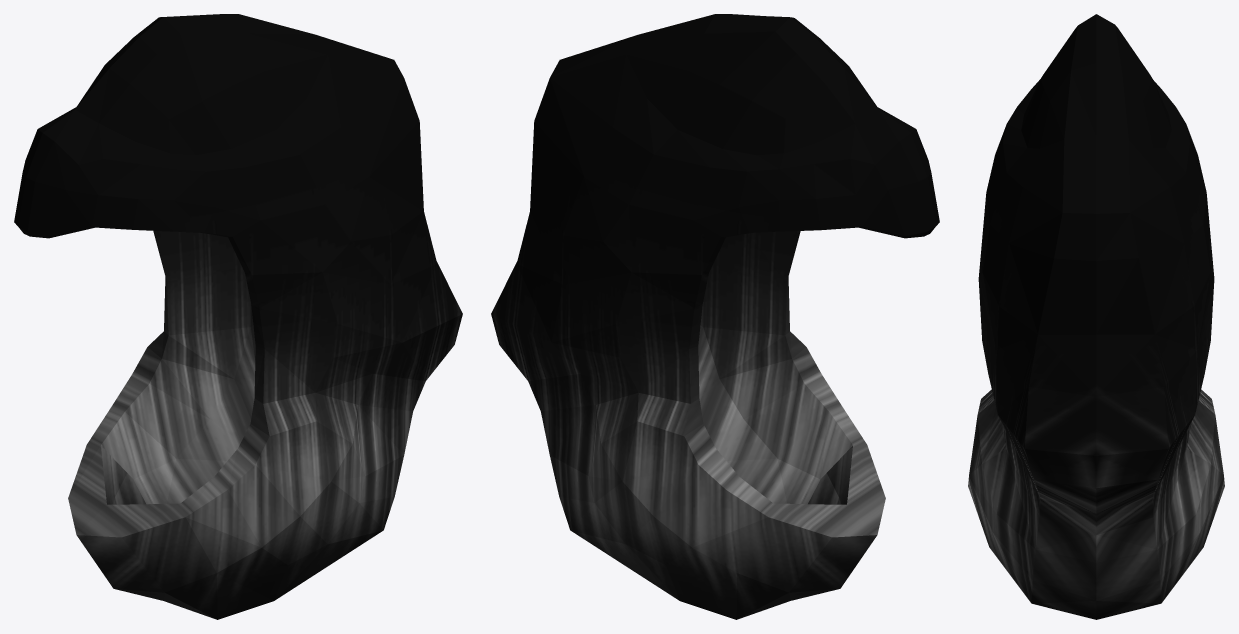
Rendered from 0281_daqian.glb.
3 renders of one model, left to right at view 1: azimuth 30°, elevation 25°; view 2: azimuth 150°, elevation 25°; view 3: azimuth 270°, elevation 25°, orthographic. The views are drawn at different scales.
Size of the model in its own units: 1.66 by 2.2 by 0.9265.
1 material, 1 textured.
